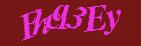3: (65, 6, 86, 28)
E: (83, 5, 106, 31)
F: (20, 9, 39, 40)
c: (45, 12, 59, 28)
h: (32, 9, 50, 34)
q: (52, 5, 69, 28)
y: (103, 9, 120, 34)
